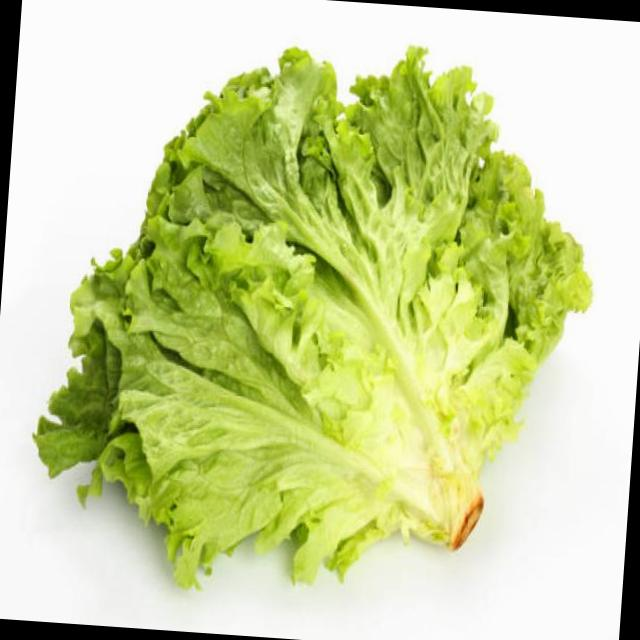Lettuce-Ready-to-Harvest: (35, 49, 590, 586)
